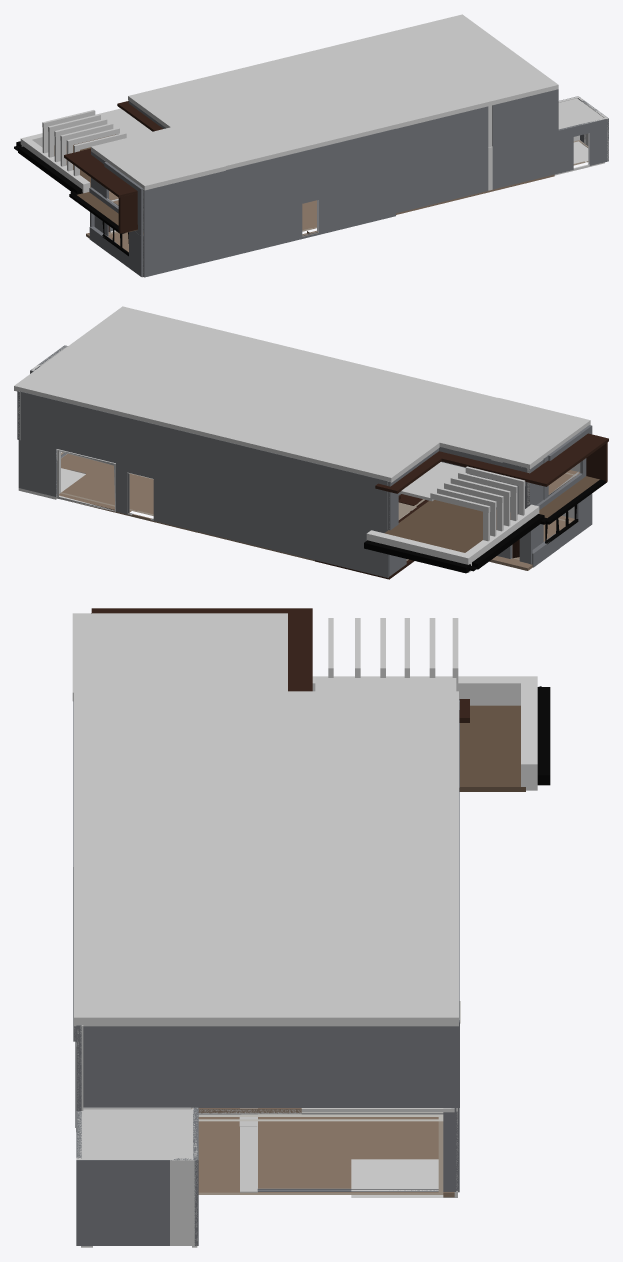
The model's file is modern-house.access-v14.lod1.glb.
The picture shows the model from 3 angles, top to bottom: view 1: azimuth 30°, elevation 25°; view 2: azimuth 150°, elevation 25°; view 3: azimuth 270°, elevation 25°; orthographic projection. The views are drawn at different scales.
Visible parts, largest first — view 1: Object_2; view 2: Object_2; view 3: Object_2.
Boxes of the visible parts, x1,y1,x2,y2 form: Object_2: (14, 14, 608, 277); Object_2: (14, 306, 608, 579); Object_2: (72, 608, 550, 1247).
Bounding box in the file's own units: 35.73 × 6.46 × 15.19.
